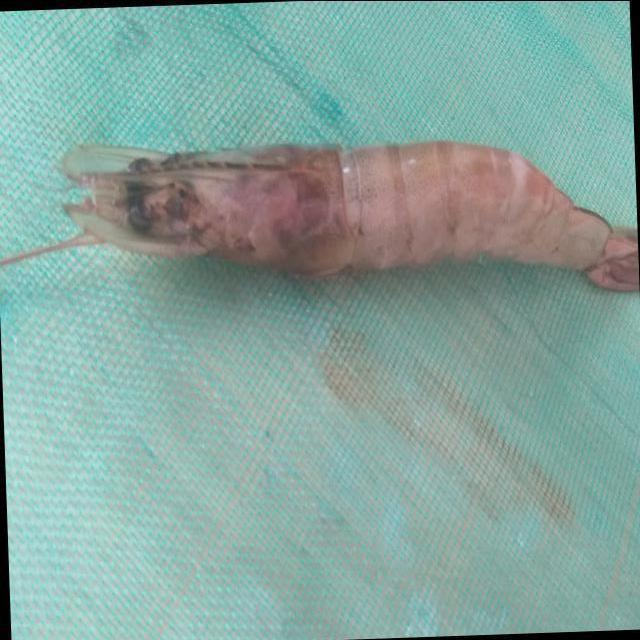shrimp: (20, 141, 639, 291)
